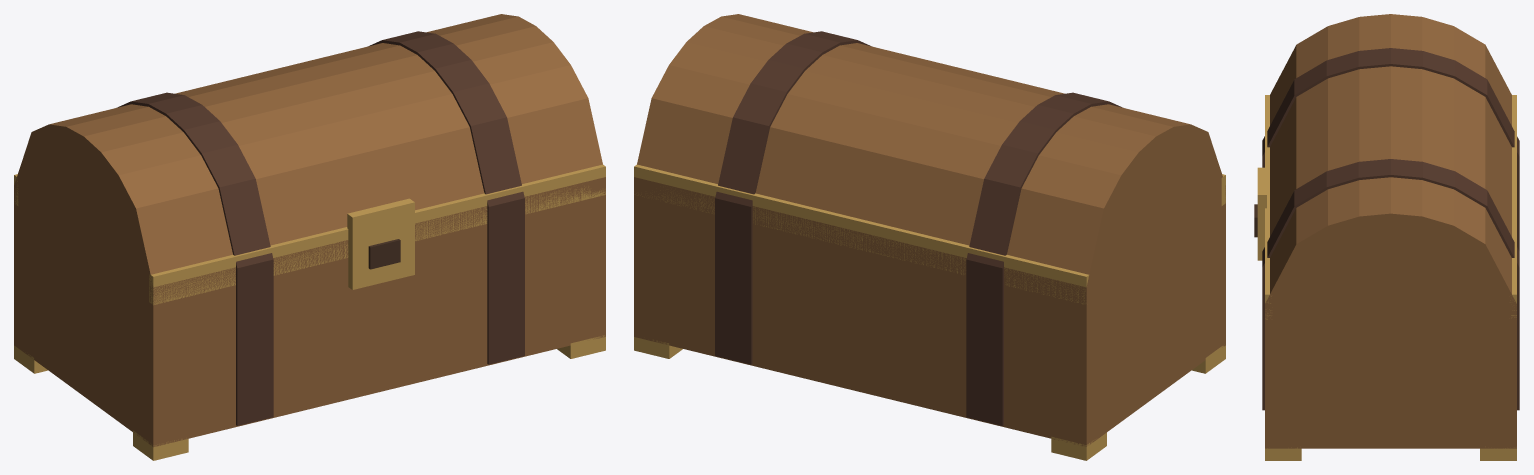
Rendered from FN_Trunk_Storage.glb.
3 renders of one model, left to right at view 1: azimuth 30°, elevation 25°; view 2: azimuth 150°, elevation 25°; view 3: azimuth 270°, elevation 25°, orthographic. The views are drawn at different scales.
Parts seen in each view (by area): view 1: FN_Trunk_Storage; view 2: FN_Trunk_Storage; view 3: FN_Trunk_Storage.
Boxes of the visible parts, left/top/right/bottom form: FN_Trunk_Storage: left=14, top=14, right=605, bottom=460; FN_Trunk_Storage: left=634, top=14, right=1225, bottom=460; FN_Trunk_Storage: left=1254, top=14, right=1519, bottom=460.
Bounding box in the file's own units: 0.9 × 0.525 × 0.505.
1 material, 1 textured.
